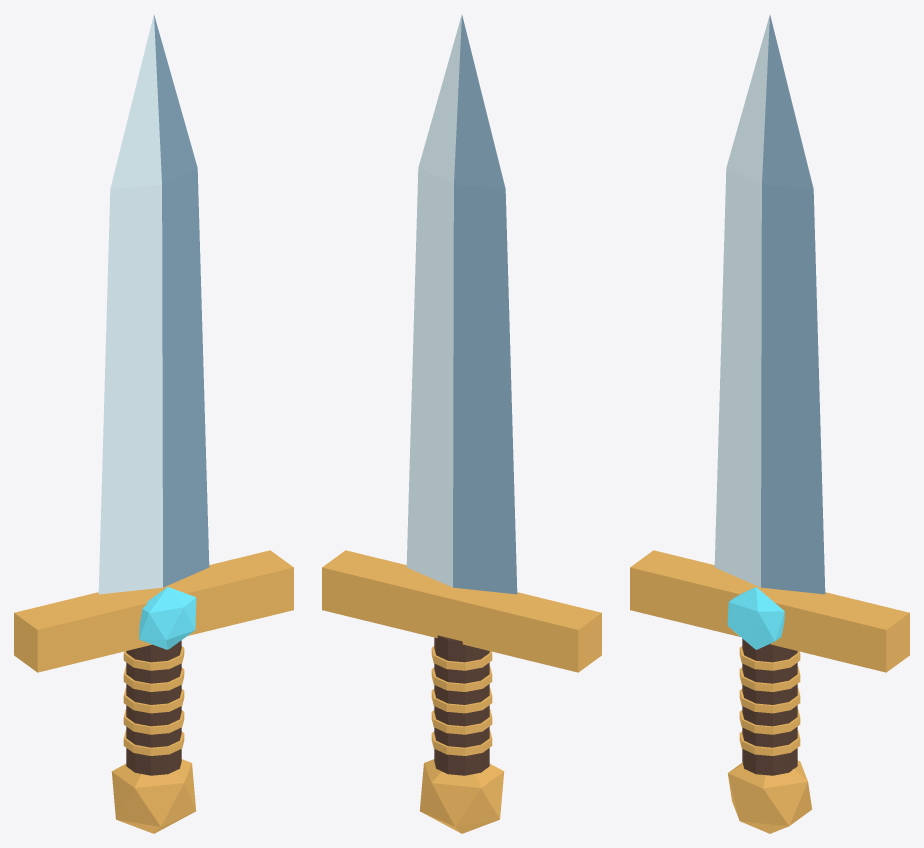
Rendered from forge-sword.glb.
The picture shows the model from 3 angles, left to right: view 1: azimuth 30°, elevation 25°; view 2: azimuth 150°, elevation 25°; view 3: azimuth 330°, elevation 25°; orthographic projection.
Parts seen in each view (by area): view 1: forge-sword; view 2: forge-sword; view 3: forge-sword.
Part boxes in pixels (<box>): forge-sword: <box>14,15,293,833</box>; forge-sword: <box>322,15,601,833</box>; forge-sword: <box>630,15,909,833</box>.
Bounding box in the file's own units: 0.44 × 1.34 × 0.1176.
